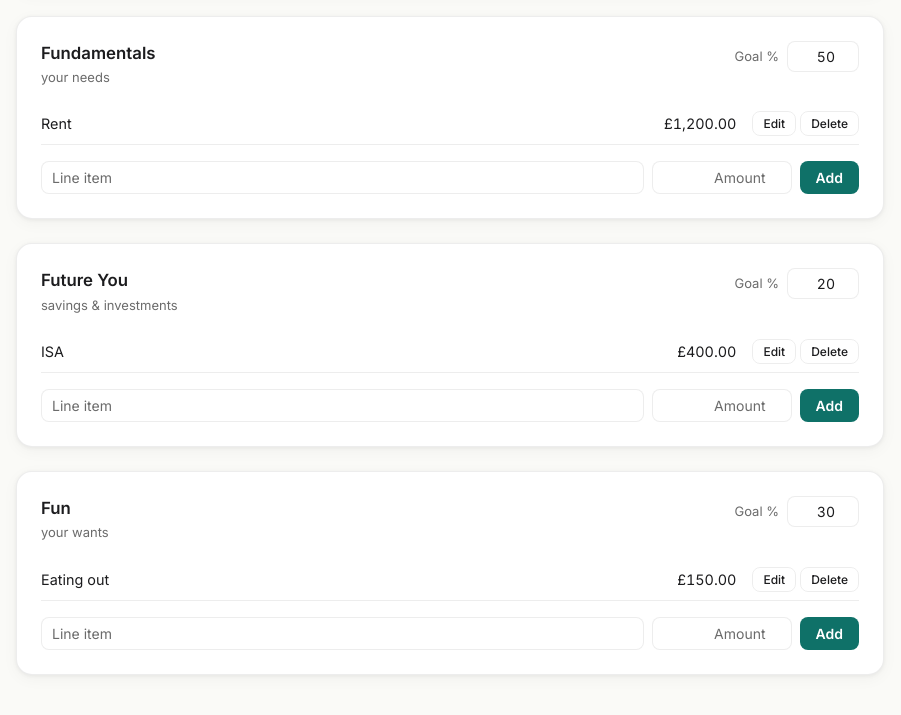
BudgetComponent › line-item CRUD › should preserve the typed add-form values when createLineItem fails
(page scrolled)
Type "Cinema" into the field with class "item-add-label" below "Eating out" at [342, 633], box [41,617,644,650]
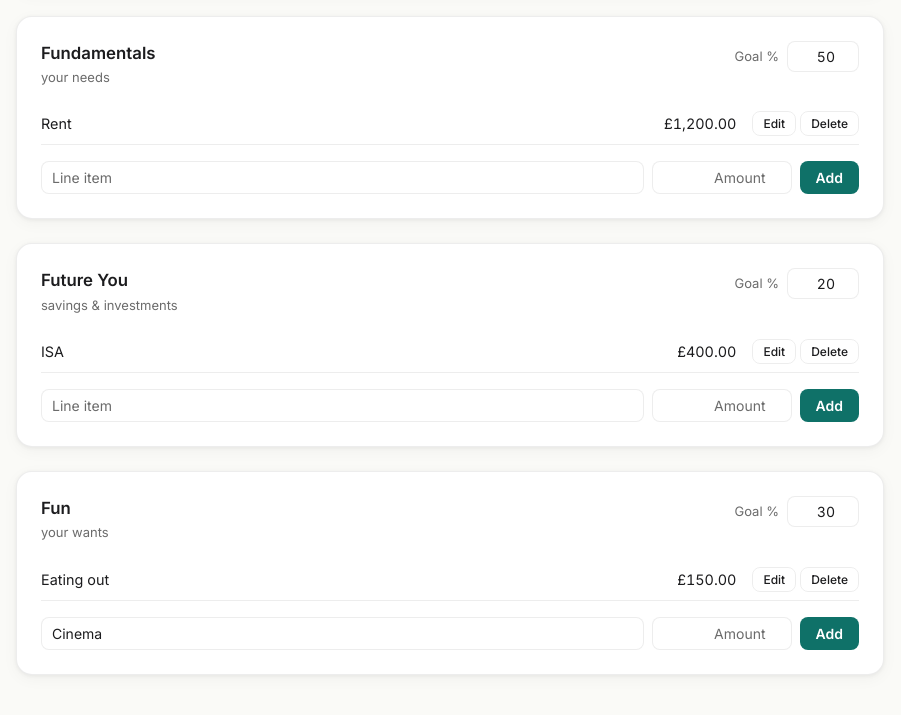
Type "25" into the number field with class "item-add-amount" below "£150.00" at [722, 633], box [652,617,792,650]
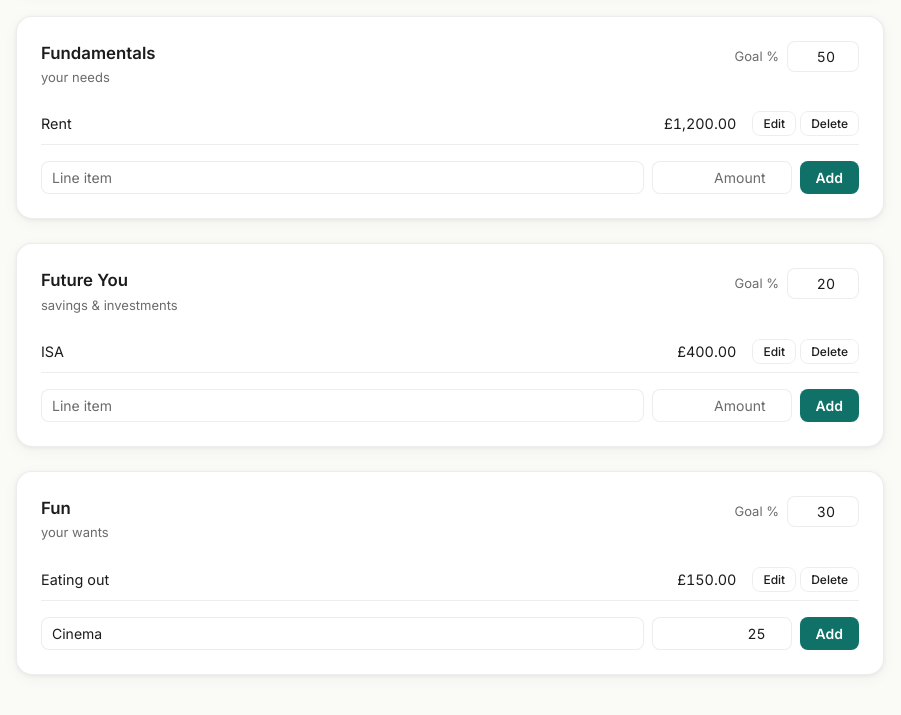
Submit the form with class "item-add-form" below "Eating out", box [41,617,859,650]
(page scrolled)
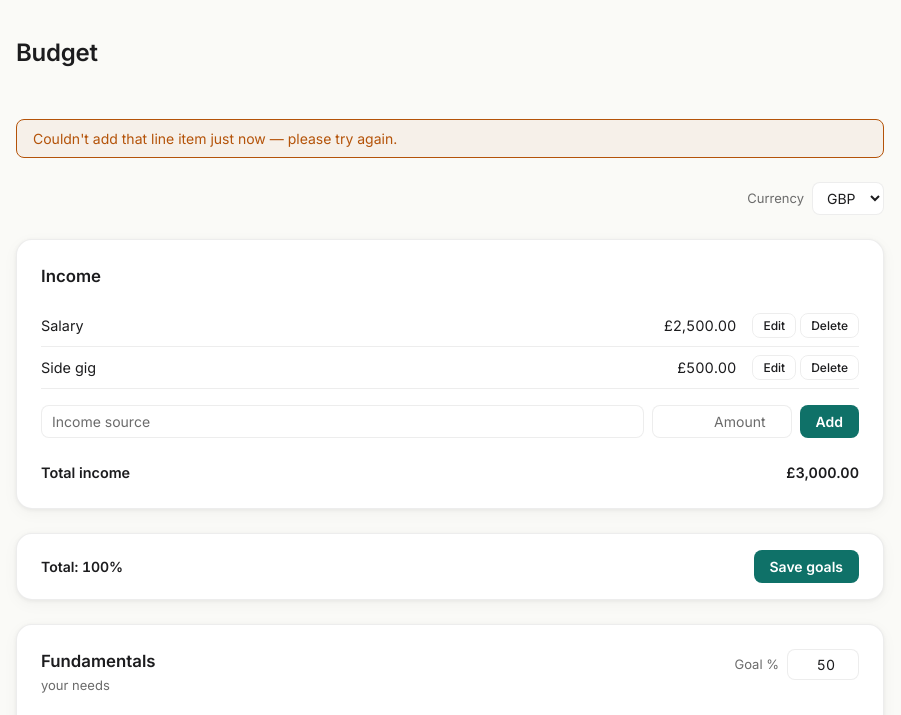
Check: the message "Couldn't add that line item just now — please try again." is shown, box [16,119,884,158]
